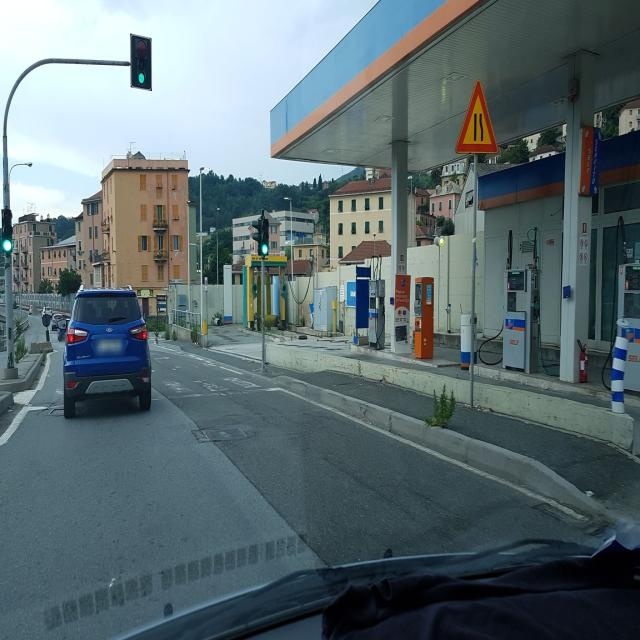car: (62, 285, 152, 418), (58, 316, 70, 341), (41, 304, 52, 321), (51, 316, 60, 330)
